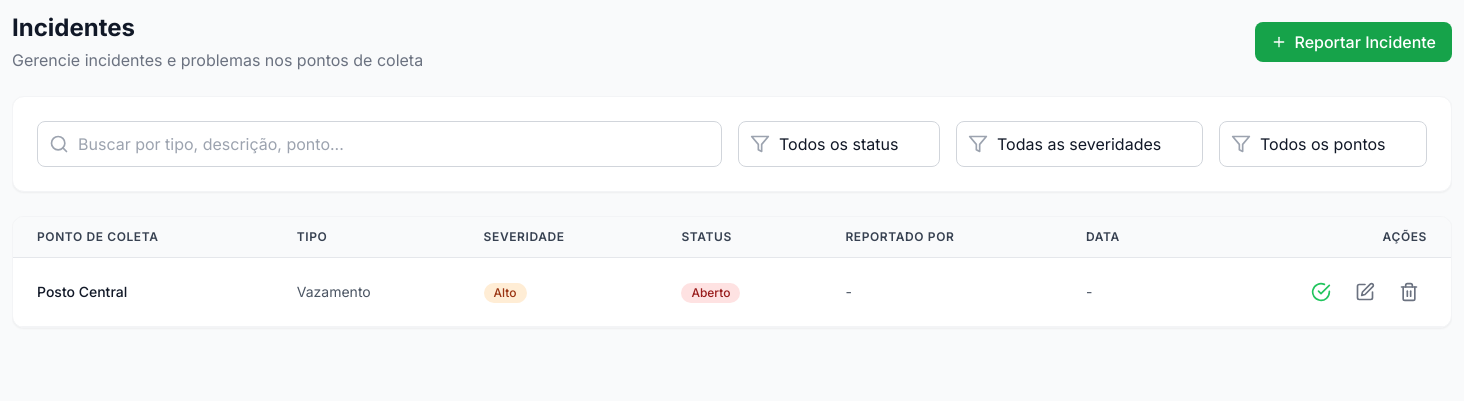
Test case: IncidentsPage › renders incidents and filters by search
Expected: the heading "Incidentes" is shown, [12, 13, 135, 42]
Type "inexistente" into the field with placeholder "Buscar por tipo, descrição, ponto..." at (380, 144), box [37, 121, 722, 167]
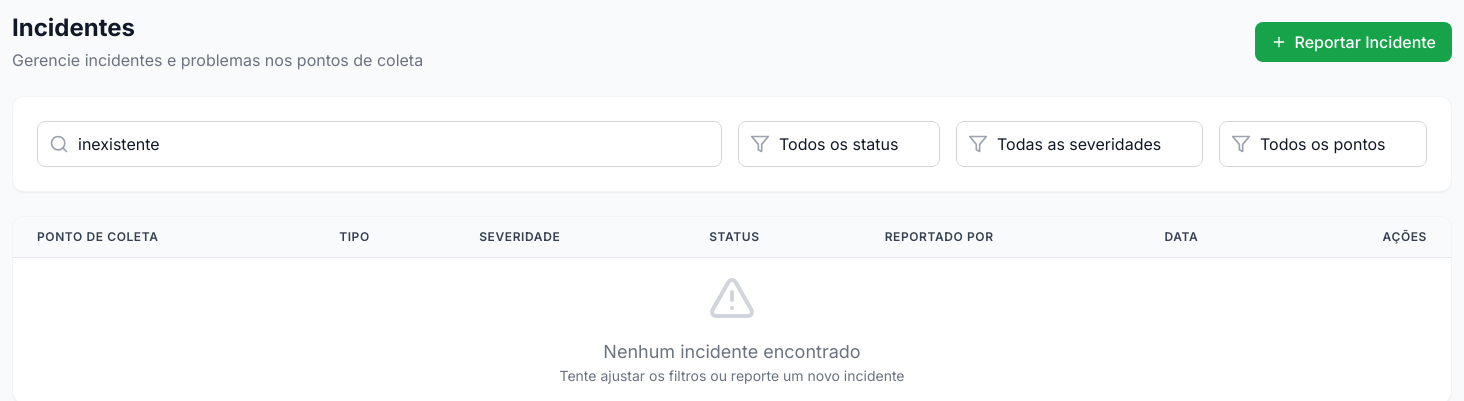
Expected: the text "Nenhum incidente encontrado" is shown, [603, 341, 861, 362]
